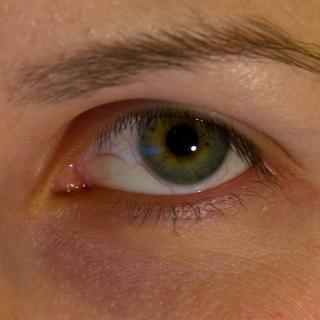pupil: (167, 124, 199, 157)
